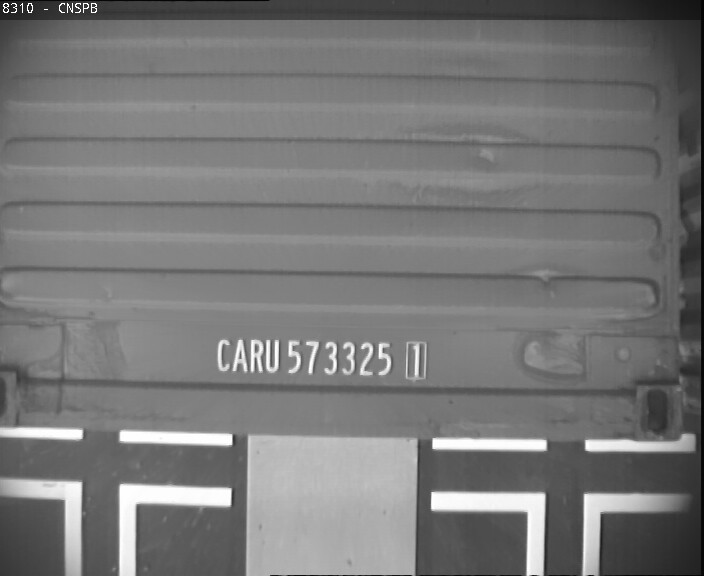groundmarker_1: (432, 492, 695, 576), (1, 479, 230, 572)
